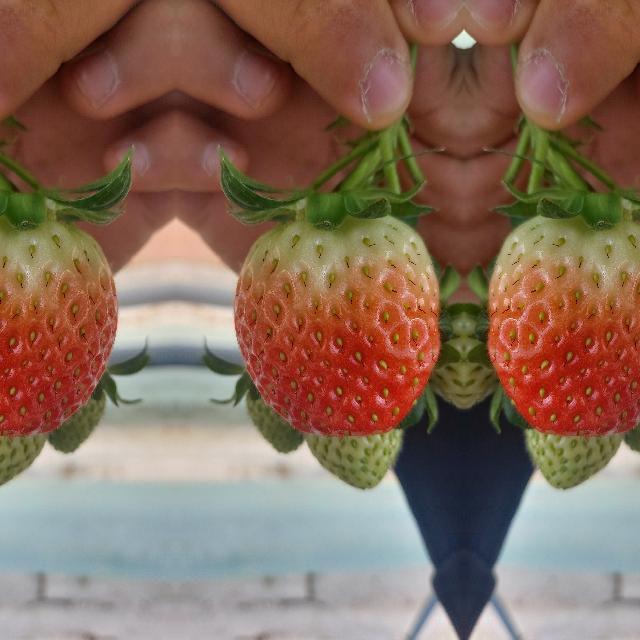Health_75: (233, 214, 439, 436), (487, 214, 640, 435), (0, 214, 117, 435)
